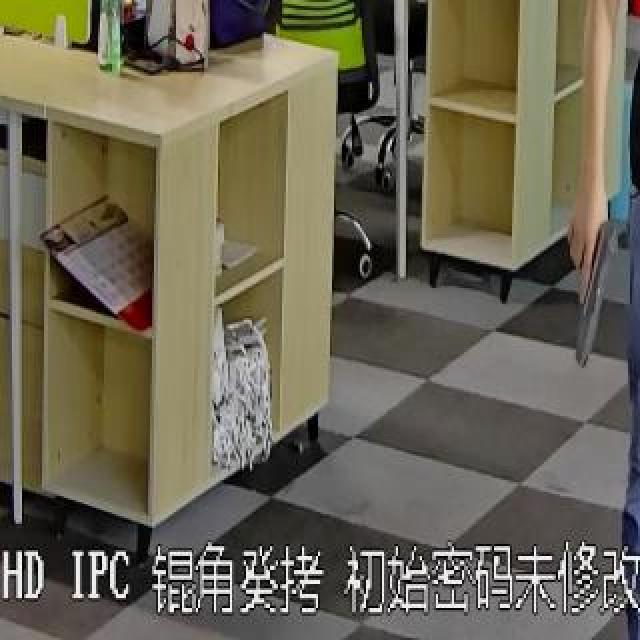Guns: (566, 186, 636, 370)
